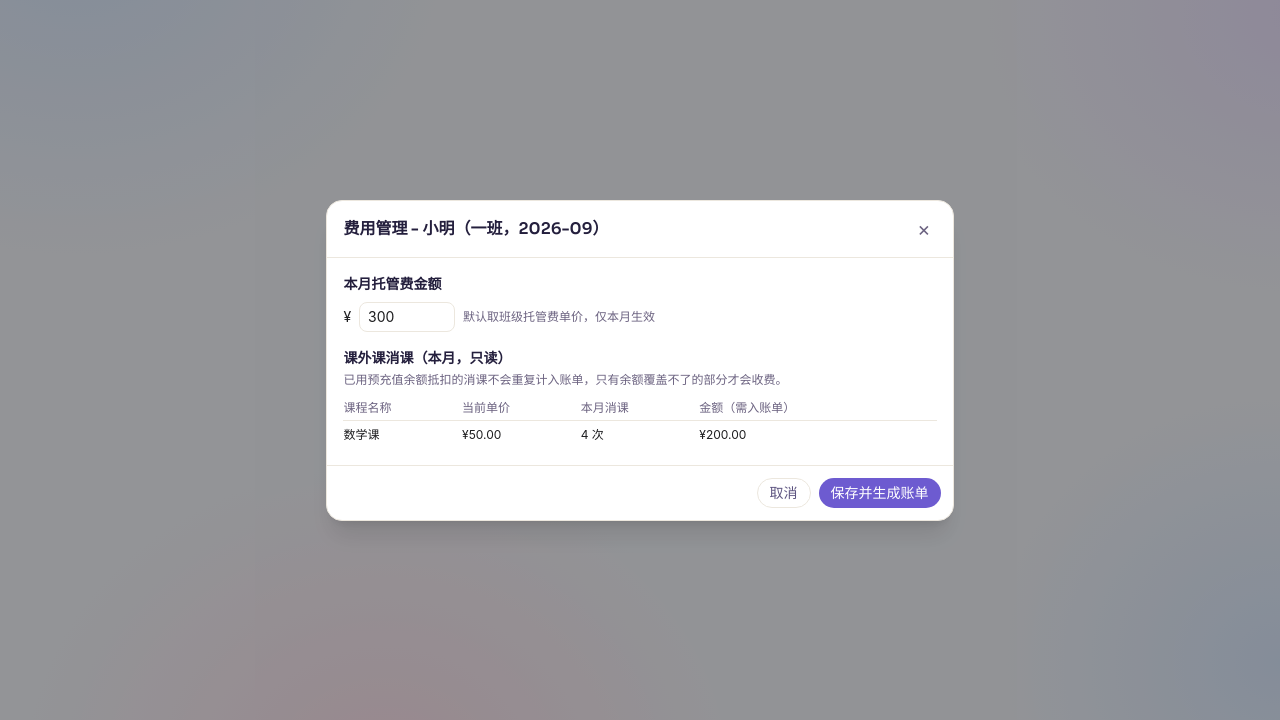
Scenario: FeeManagementModal › rejects an invalid tuition amount without saving
The image size is (1280, 720).
Replace the text in the field named "本月托管费金额" with "abc": (407, 316) 359,302 -> 455,332
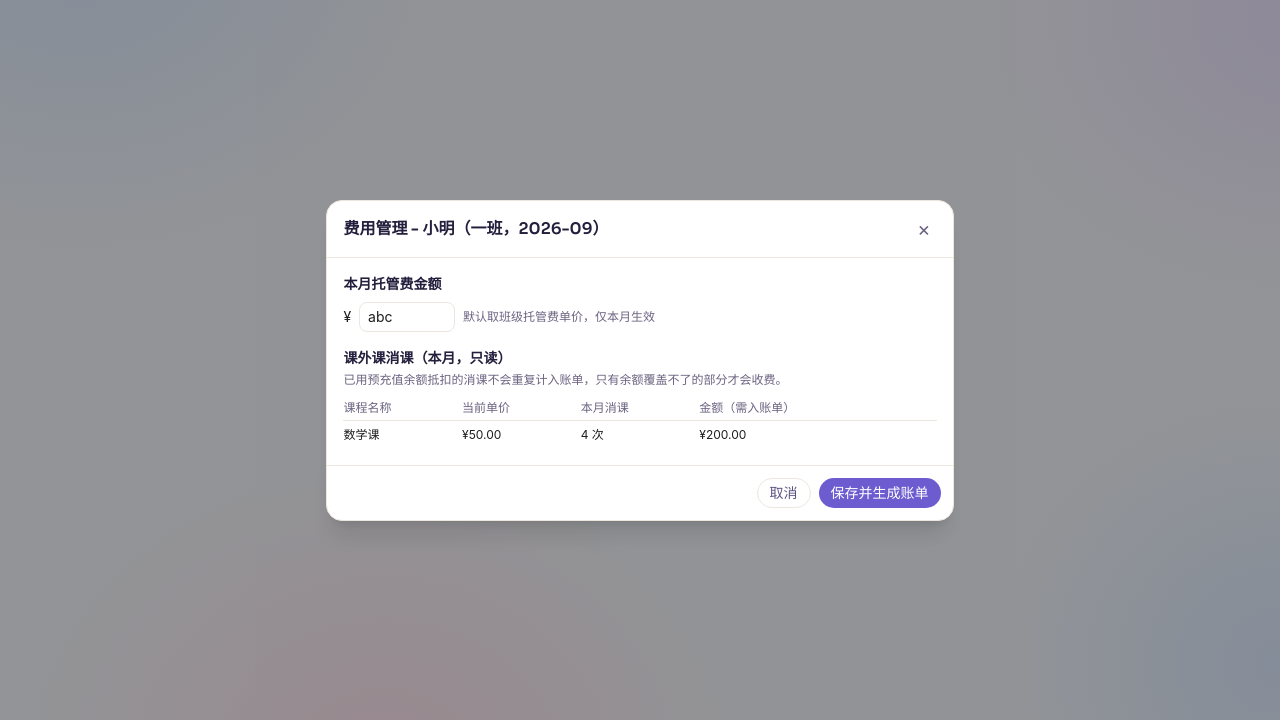
Click the button "保存并生成账单": (880, 492) 819,478 -> 941,508
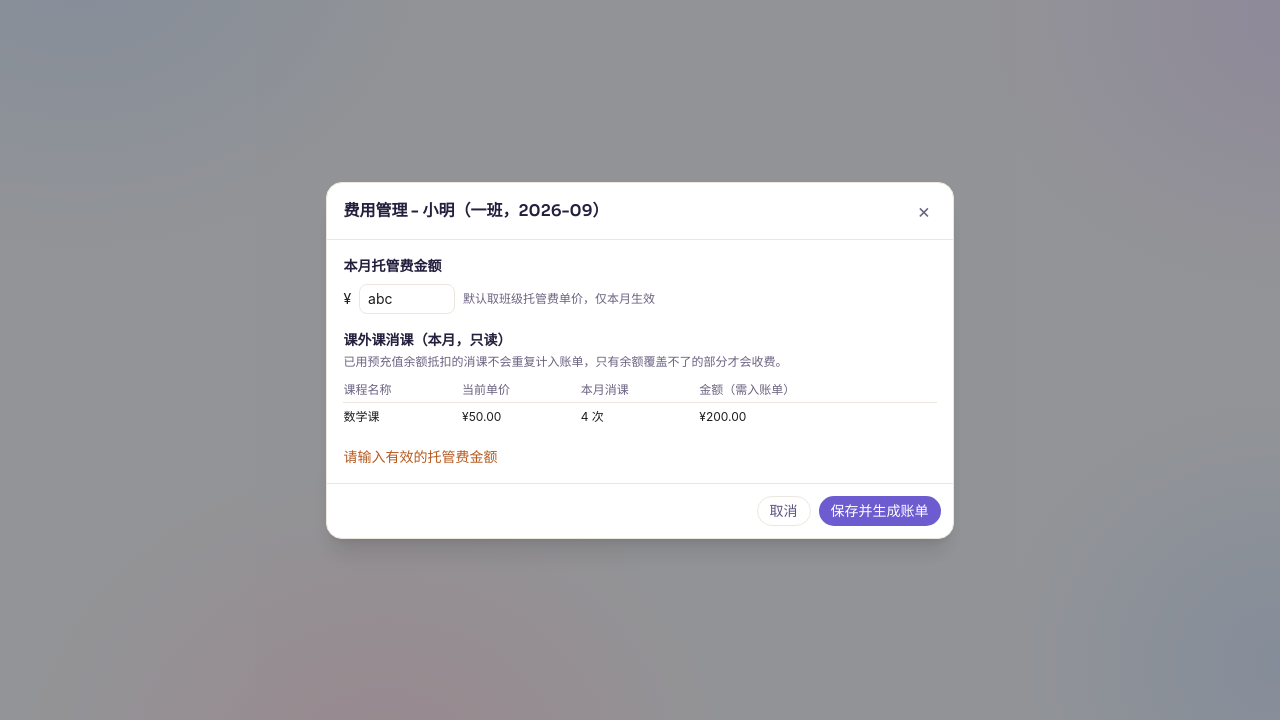
Check: the text "请输入有效的托管费金额" is shown, box 343,448 -> 497,464
